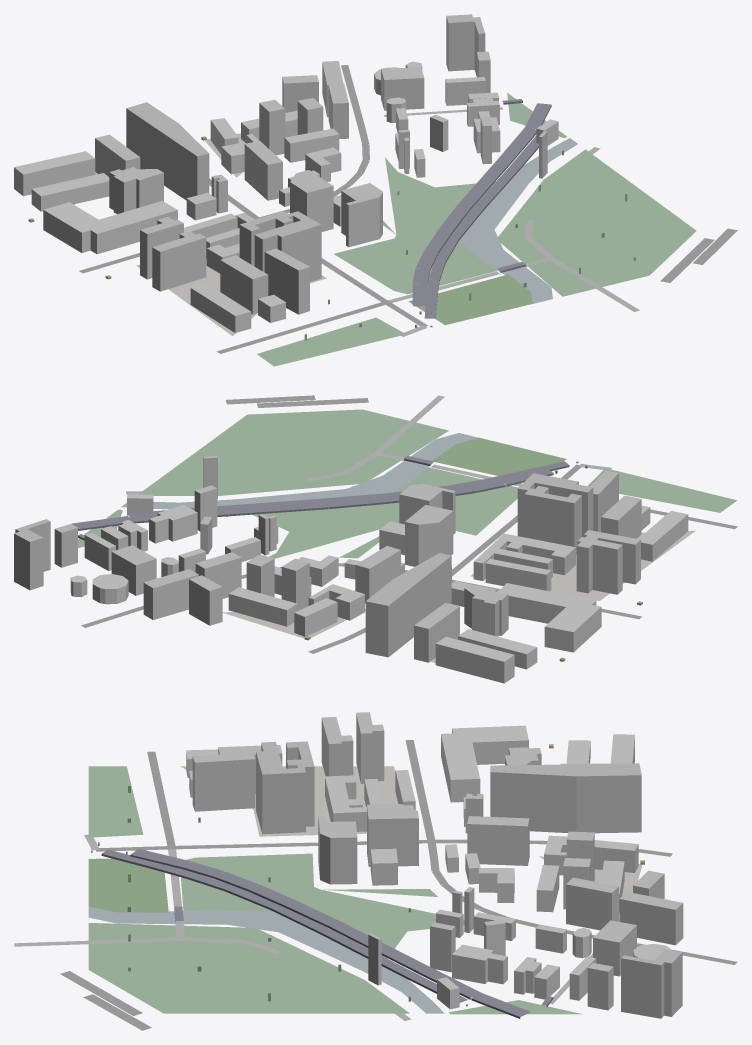
3 views of the same model, one above another, from view 1: azimuth 30°, elevation 25°; view 2: azimuth 150°, elevation 25°; view 3: azimuth 270°, elevation 25° (orthographic). The views are drawn at different scales.
Size of the model in its own units: 588 by 57.76 by 620.
